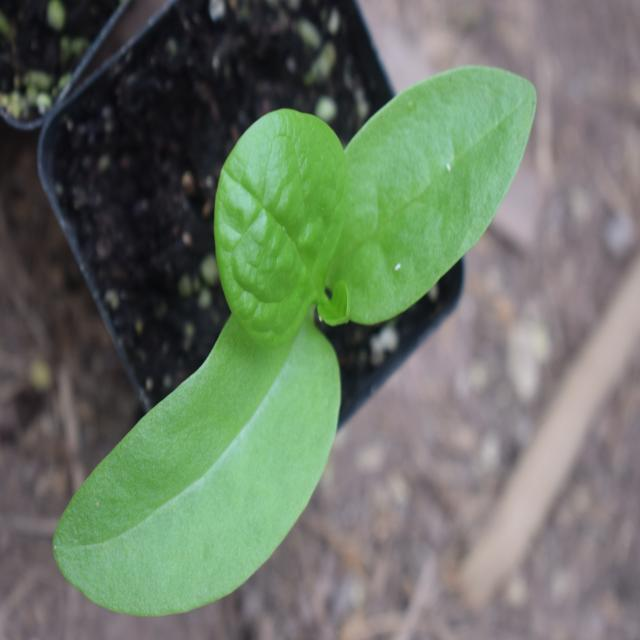Ceylon spinach: (75, 43, 548, 601)
